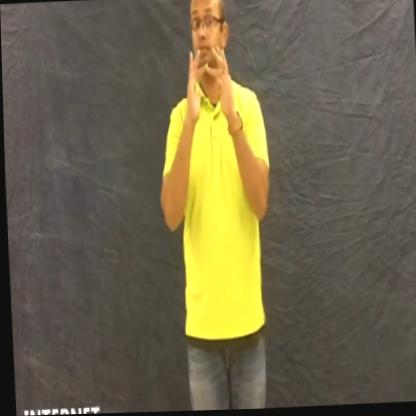Internet: (183, 45, 235, 128)
